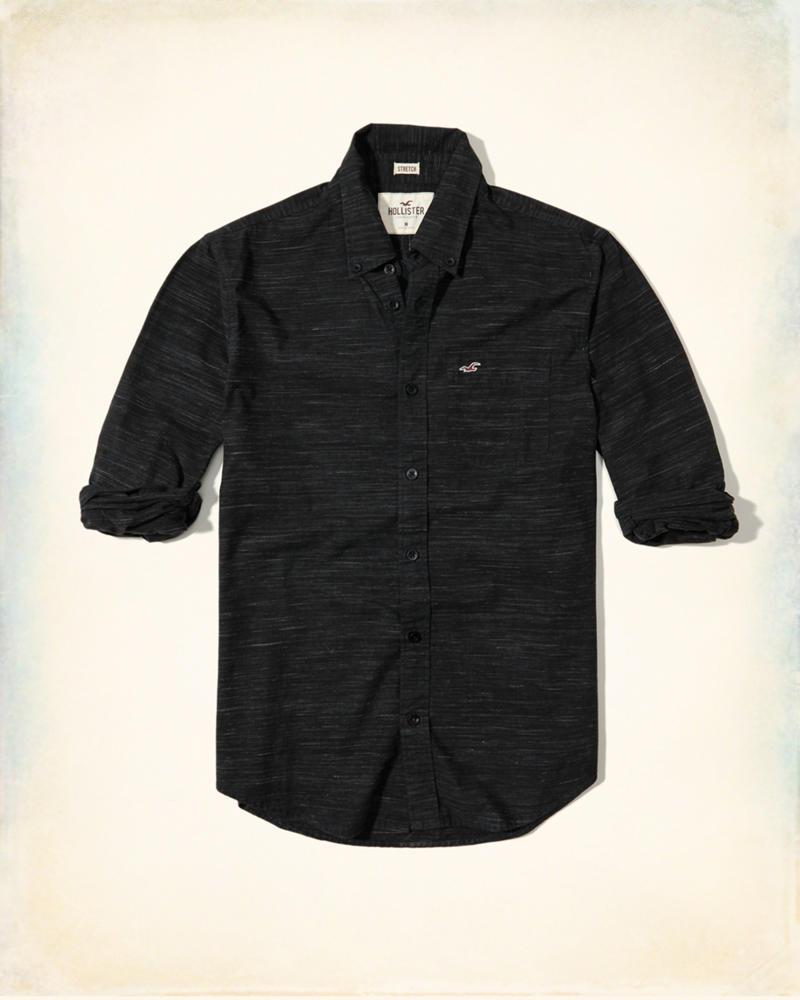teeshirt: (79, 121, 744, 822)
